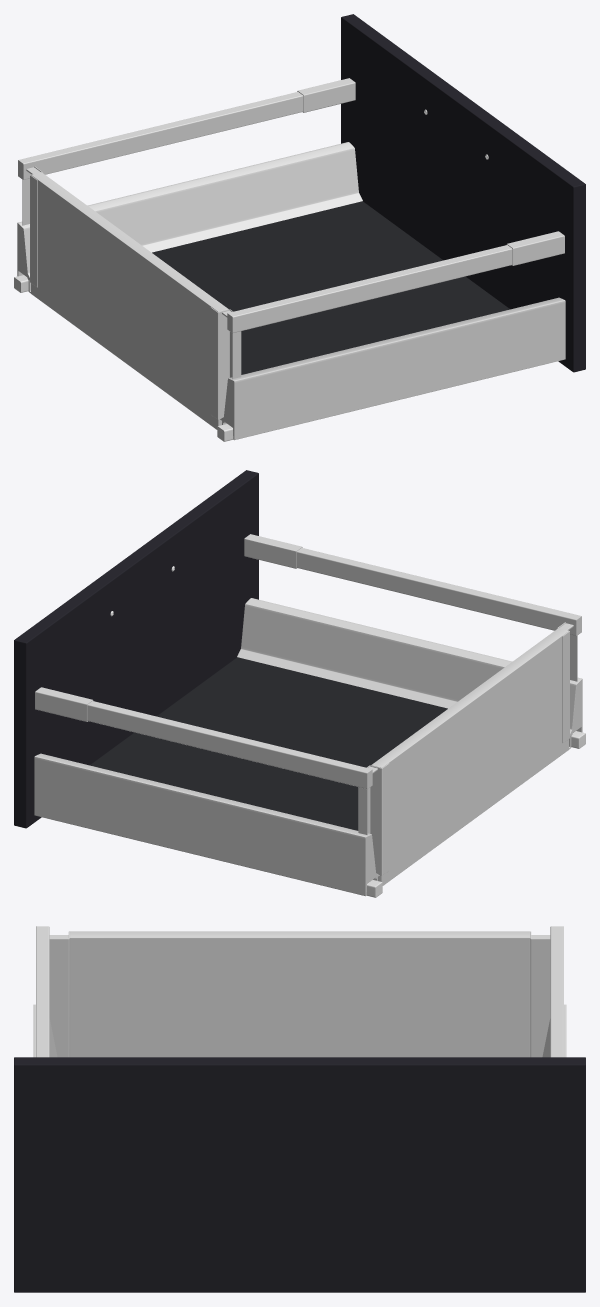
Rendered from Kitchen05Drawer02.fbx.
The picture shows the model from 3 angles, top to bottom: view 1: azimuth 30°, elevation 25°; view 2: azimuth 150°, elevation 25°; view 3: azimuth 270°, elevation 25°; orthographic projection. The views are drawn at different scales.
Parts seen in each view (by area): view 1: Kitchen05Drawer02; view 2: Kitchen05Drawer02; view 3: Kitchen05Drawer02.
Part boxes in pixels (x1,y1,x2,y2): Kitchen05Drawer02: [14, 14, 585, 441]; Kitchen05Drawer02: [14, 470, 585, 897]; Kitchen05Drawer02: [14, 926, 585, 1292].
Size of what is drawn, in the model's own units: 51.99 by 59.69 by 26.3.
Materials: 4 (1 with a texture image).
